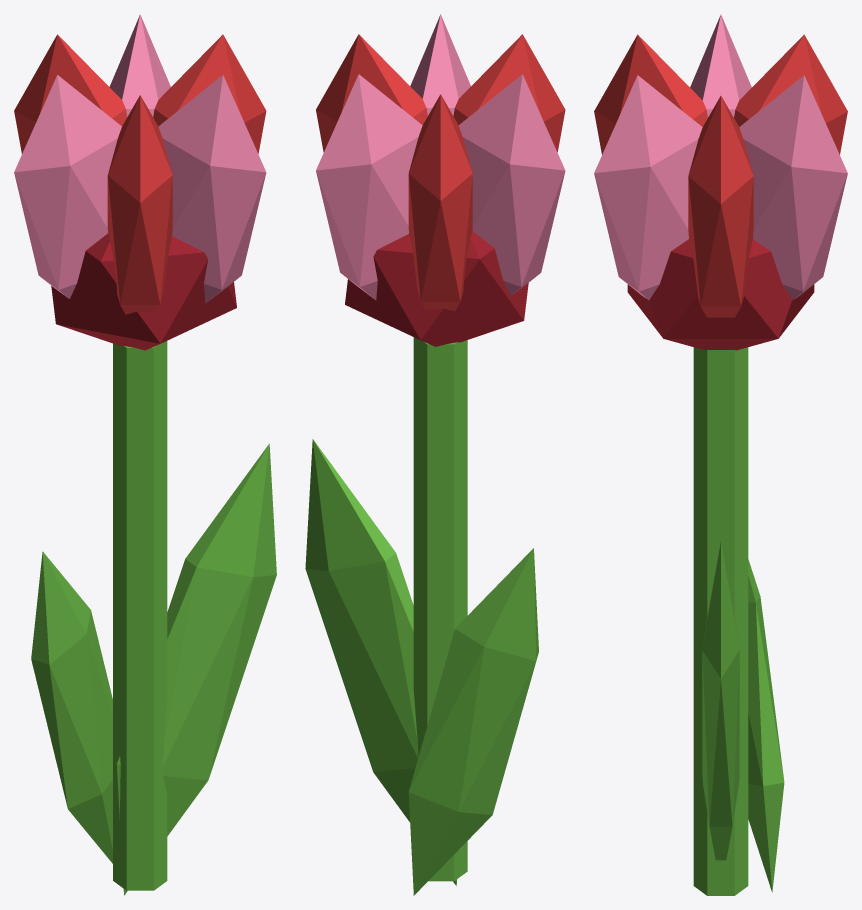
The model's file is Tulip.fbx.
The picture shows the model from 3 angles, left to right: view 1: azimuth 30°, elevation 25°; view 2: azimuth 150°, elevation 25°; view 3: azimuth 270°, elevation 25°; orthographic projection.
Visible parts, largest first — view 1: Tulip; view 2: Tulip; view 3: Tulip.
Part boxes in pixels (<box>): Tulip: <box>14,14,276,895</box>; Tulip: <box>305,14,565,895</box>; Tulip: <box>594,14,847,895</box>.
Size of the model in its own units: 1.67 by 5.09 by 1.39.
1 material, 1 textured.
